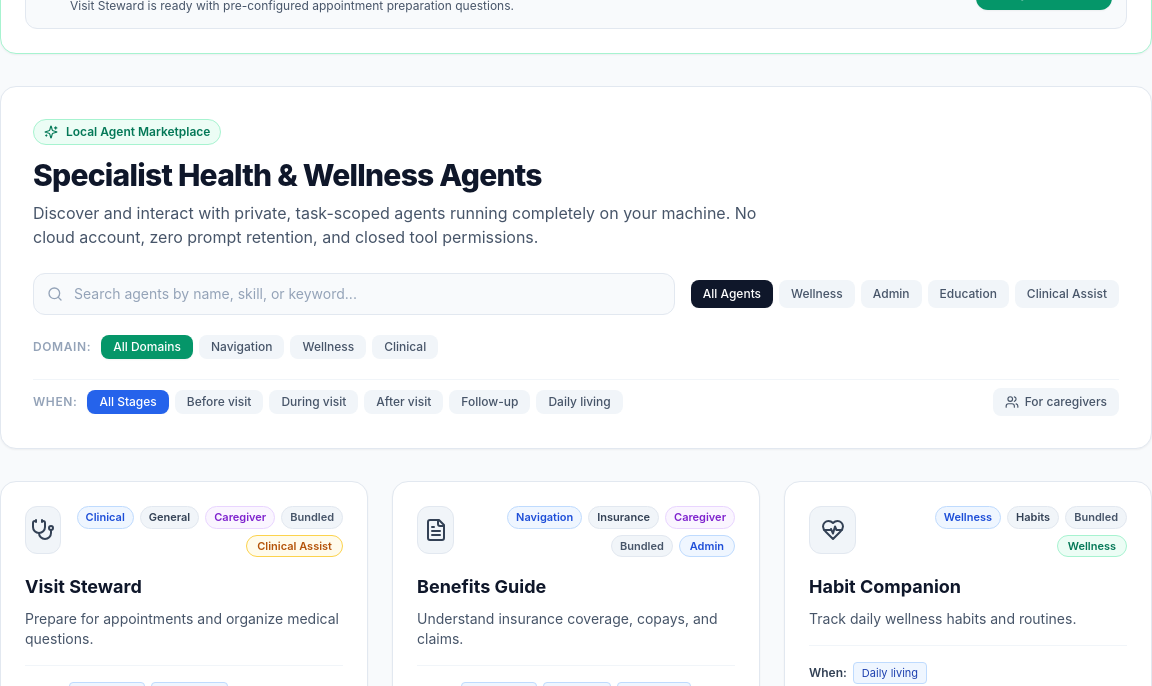
Test: MarketplaceClient Data-Driven Filters › displays empty state with "Clear all filters" button and resets all active filters
(page scrolled)
Note: Select domain Navigation
Click the button "Navigation" at [242, 347], box top-left (199, 335), bottom-right (284, 359)
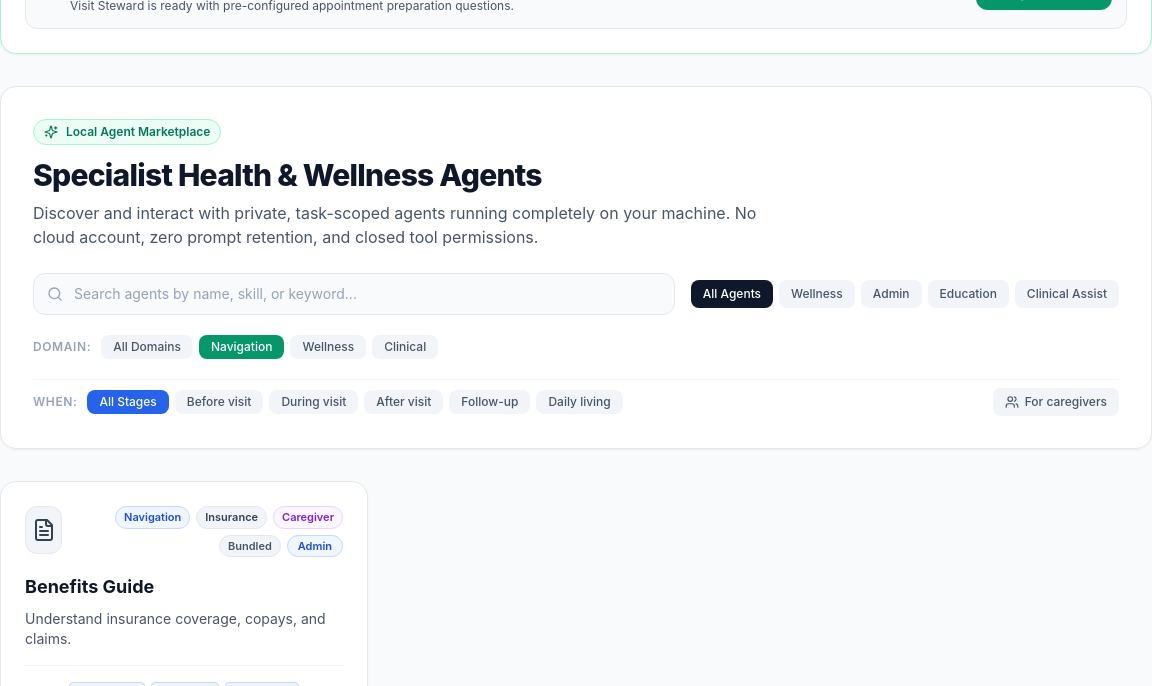
Note: Select Care stage "Follow-up" (Navigation agent Benefits Guide does not have follow_up)
Click the button "Follow-up" at [490, 402], box top-left (449, 390), bottom-right (530, 414)
(page scrolled)
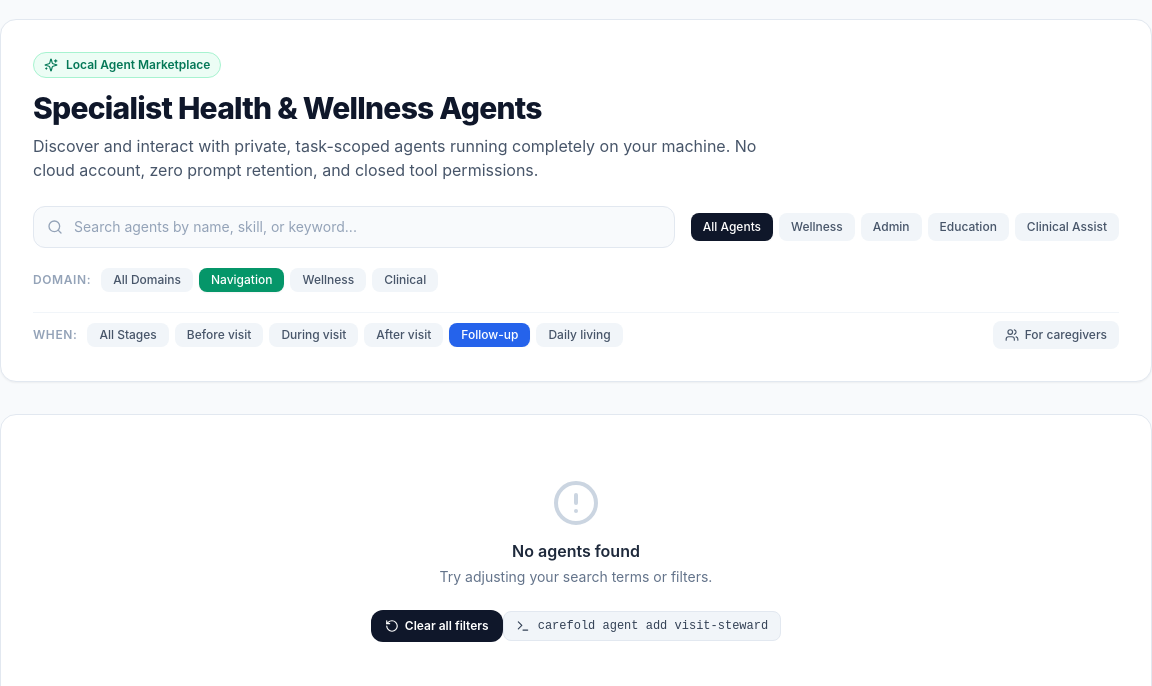
Result: the heading "No agents found" is shown at top-left (512, 541), bottom-right (640, 561)
Result: the button with test id "clear-all-filters-btn" is shown
Note: Click clear all filters
Click the button with test id "clear-all-filters-btn" at [437, 626], box top-left (371, 610), bottom-right (503, 642)
(page scrolled)
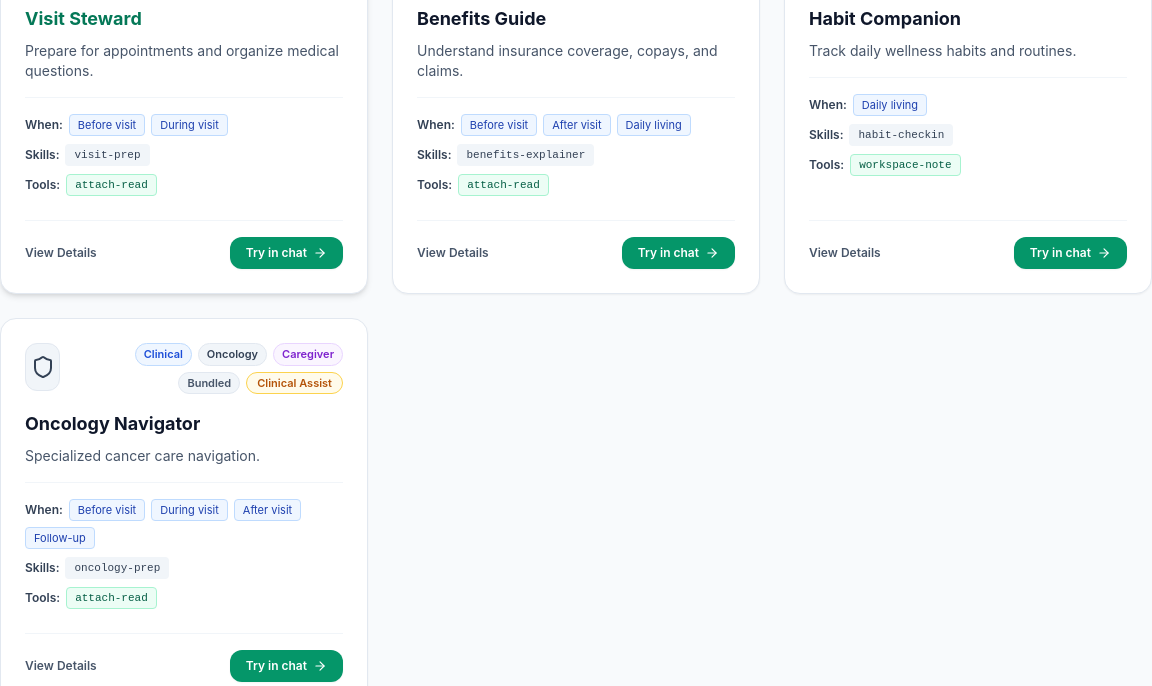
Result: the link "Visit Steward" is shown at top-left (25, 8), bottom-right (142, 29)
Result: the link "Benefits Guide" is shown at top-left (417, 8), bottom-right (546, 29)
Result: the link "Habit Companion" is shown at top-left (809, 8), bottom-right (961, 29)
